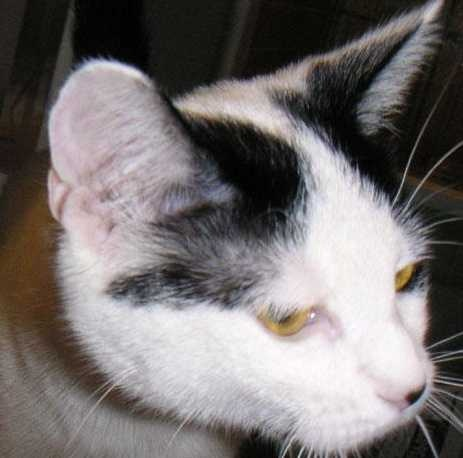Cat: (48, 60, 433, 457)
